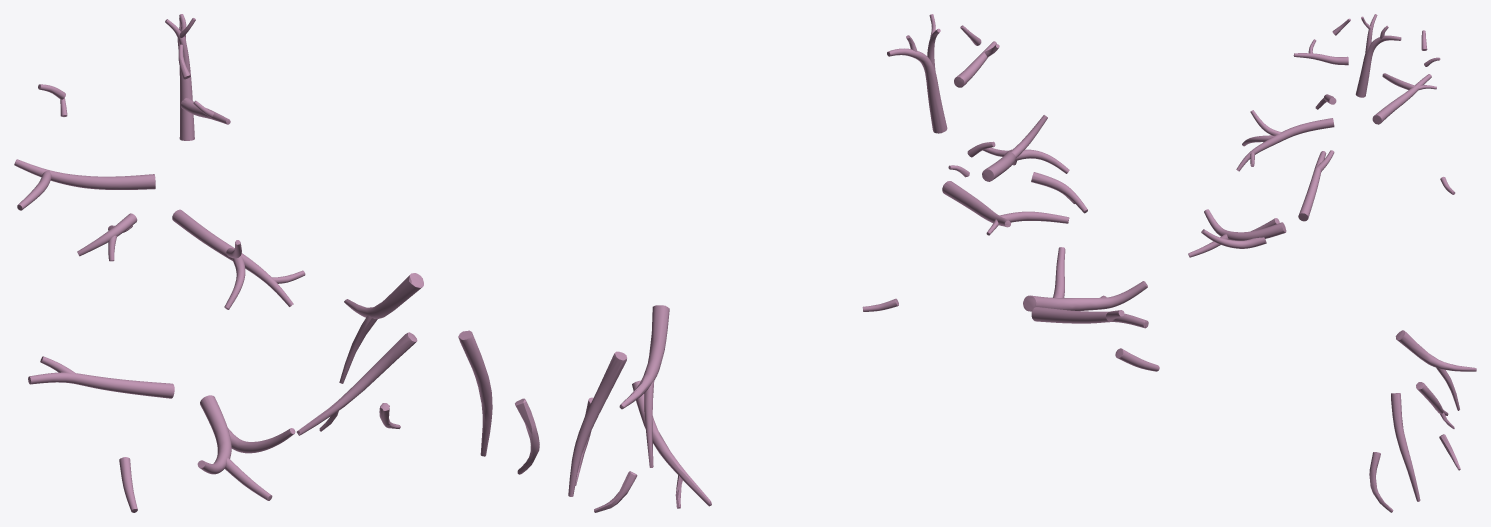
Rendered from thorax-6.glb.
3 views of the same model, side by side, from view 1: azimuth 30°, elevation 25°; view 2: azimuth 150°, elevation 25°; view 3: azimuth 270°, elevation 25° (orthographic). The views are drawn at different scales.
Parts seen in each view (by area): view 1: FJ2504, FJ2515, FJ2527, FJ2532, FJ2509, FJ2506, FJ2528, FJ2520, FJ2533, FJ2507, FJ2510, FJ2530; view 2: FJ2532, FJ2528, FJ2506, FJ2504, FJ2520, FJ2527, FJ2515; view 3: FJ2532, FJ2509, FJ2506, FJ2528, FJ2520, FJ2504, FJ2515, FJ2507, FJ2533, FJ2522, FJ2527.
Part boxes in pixels (bbox=[...]): FJ2504: bbox=[28, 372, 174, 398]; FJ2515: bbox=[14, 159, 155, 189]; FJ2527: bbox=[296, 332, 417, 435]; FJ2532: bbox=[458, 330, 492, 456]; FJ2509: bbox=[172, 209, 293, 306]; FJ2506: bbox=[197, 395, 231, 474]; FJ2528: bbox=[344, 273, 423, 318]; FJ2520: bbox=[177, 17, 194, 140]; FJ2533: bbox=[515, 398, 539, 474]; FJ2507: bbox=[228, 428, 295, 453]; FJ2510: bbox=[77, 213, 137, 256]; FJ2530: bbox=[339, 315, 377, 383]; FJ2532: bbox=[568, 351, 626, 496]; FJ2528: bbox=[619, 305, 669, 409]; FJ2506: bbox=[1023, 281, 1147, 311]; FJ2504: bbox=[1031, 307, 1148, 328]; FJ2520: bbox=[887, 48, 947, 133]; FJ2527: bbox=[632, 380, 711, 506]; FJ2515: bbox=[942, 181, 1010, 227]; FJ2532: bbox=[1391, 393, 1420, 501]; FJ2509: bbox=[1236, 118, 1334, 171]; FJ2506: bbox=[1204, 209, 1286, 240]; FJ2528: bbox=[1395, 330, 1476, 371]; FJ2520: bbox=[1355, 35, 1401, 97]; FJ2504: bbox=[1298, 151, 1326, 221]; FJ2515: bbox=[1372, 74, 1431, 124]; FJ2507: bbox=[1201, 229, 1266, 248]; FJ2533: bbox=[1369, 452, 1393, 512]; FJ2522: bbox=[1293, 53, 1348, 65]; FJ2527: bbox=[1416, 382, 1448, 415].
Bounding box in the file's own units: 0.2296 × 0.223 × 0.1535.
